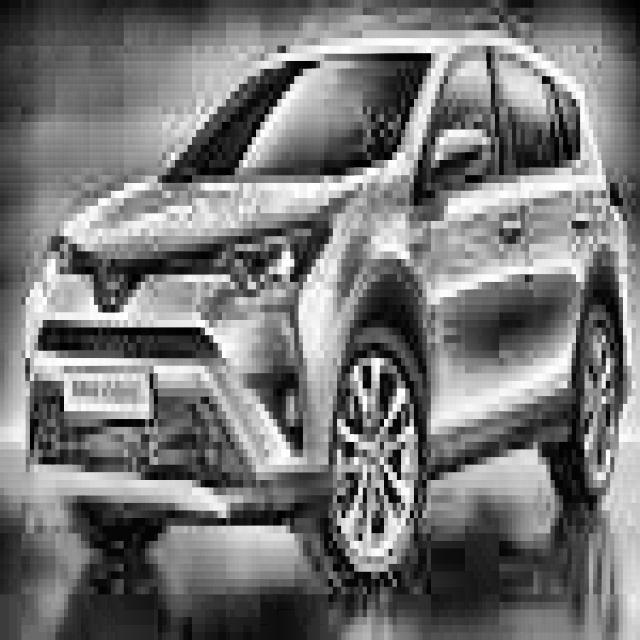light_vehicle: (21, 27, 636, 598)
